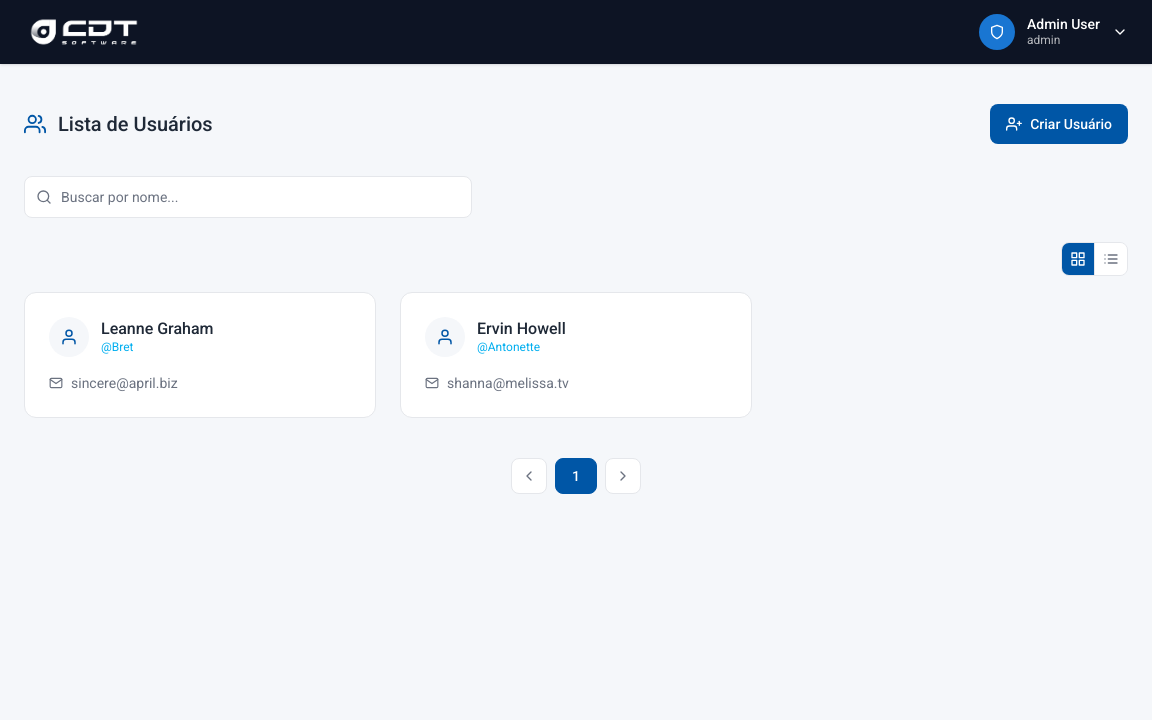
it: App — integration › closes the modal when ESC is pressed
Expected: the heading "Leanne Graham" is shown, [101,319,214,339]
Click the button "Leanne Graham @Bret Sincere@april.biz" at (69, 337), box [24,292,376,418]
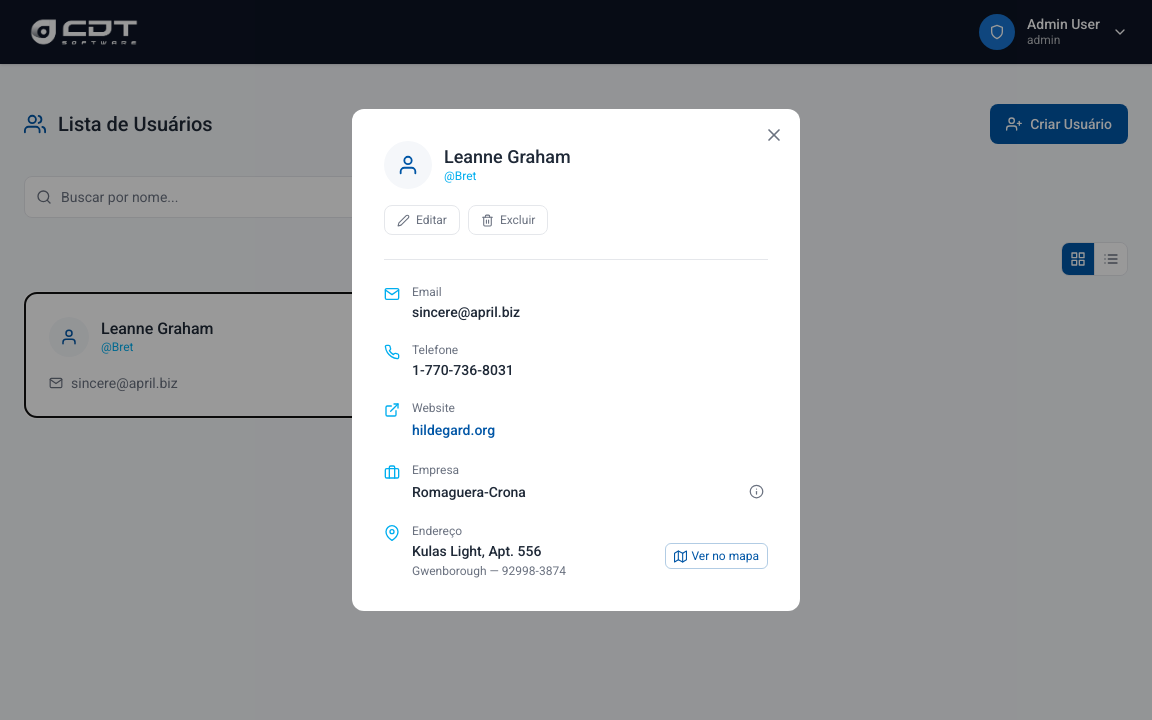
Expected: the dialog is shown
Press Escape
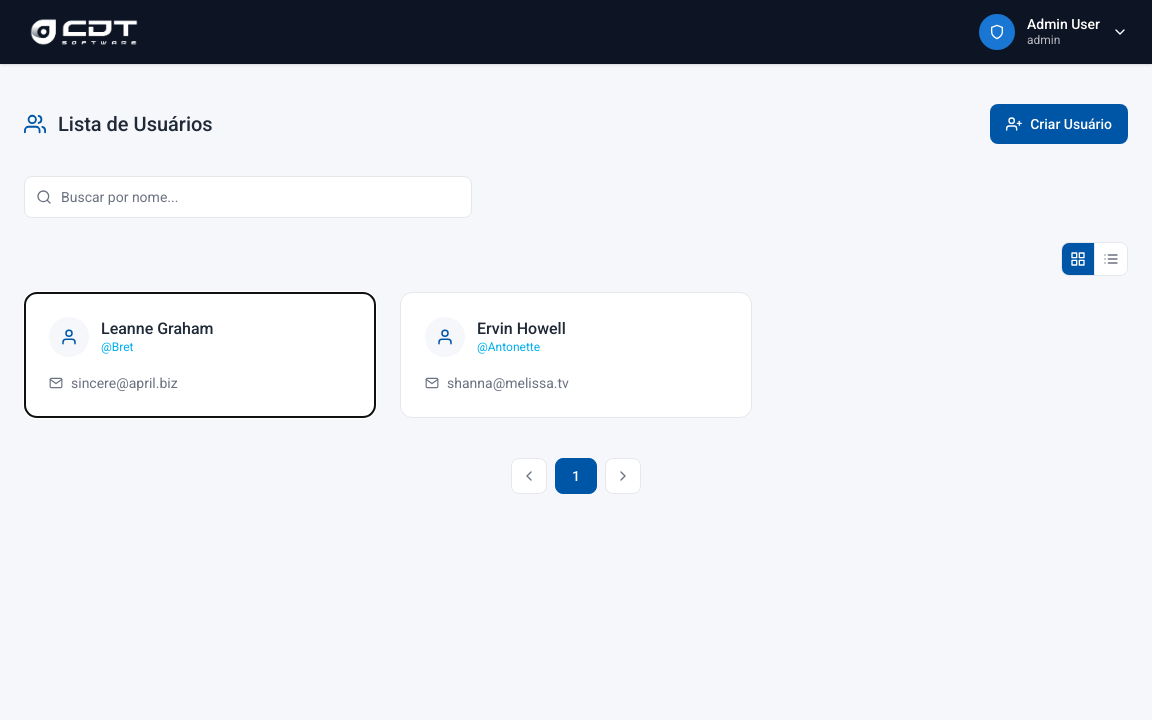
Expected: the dialog is gone
